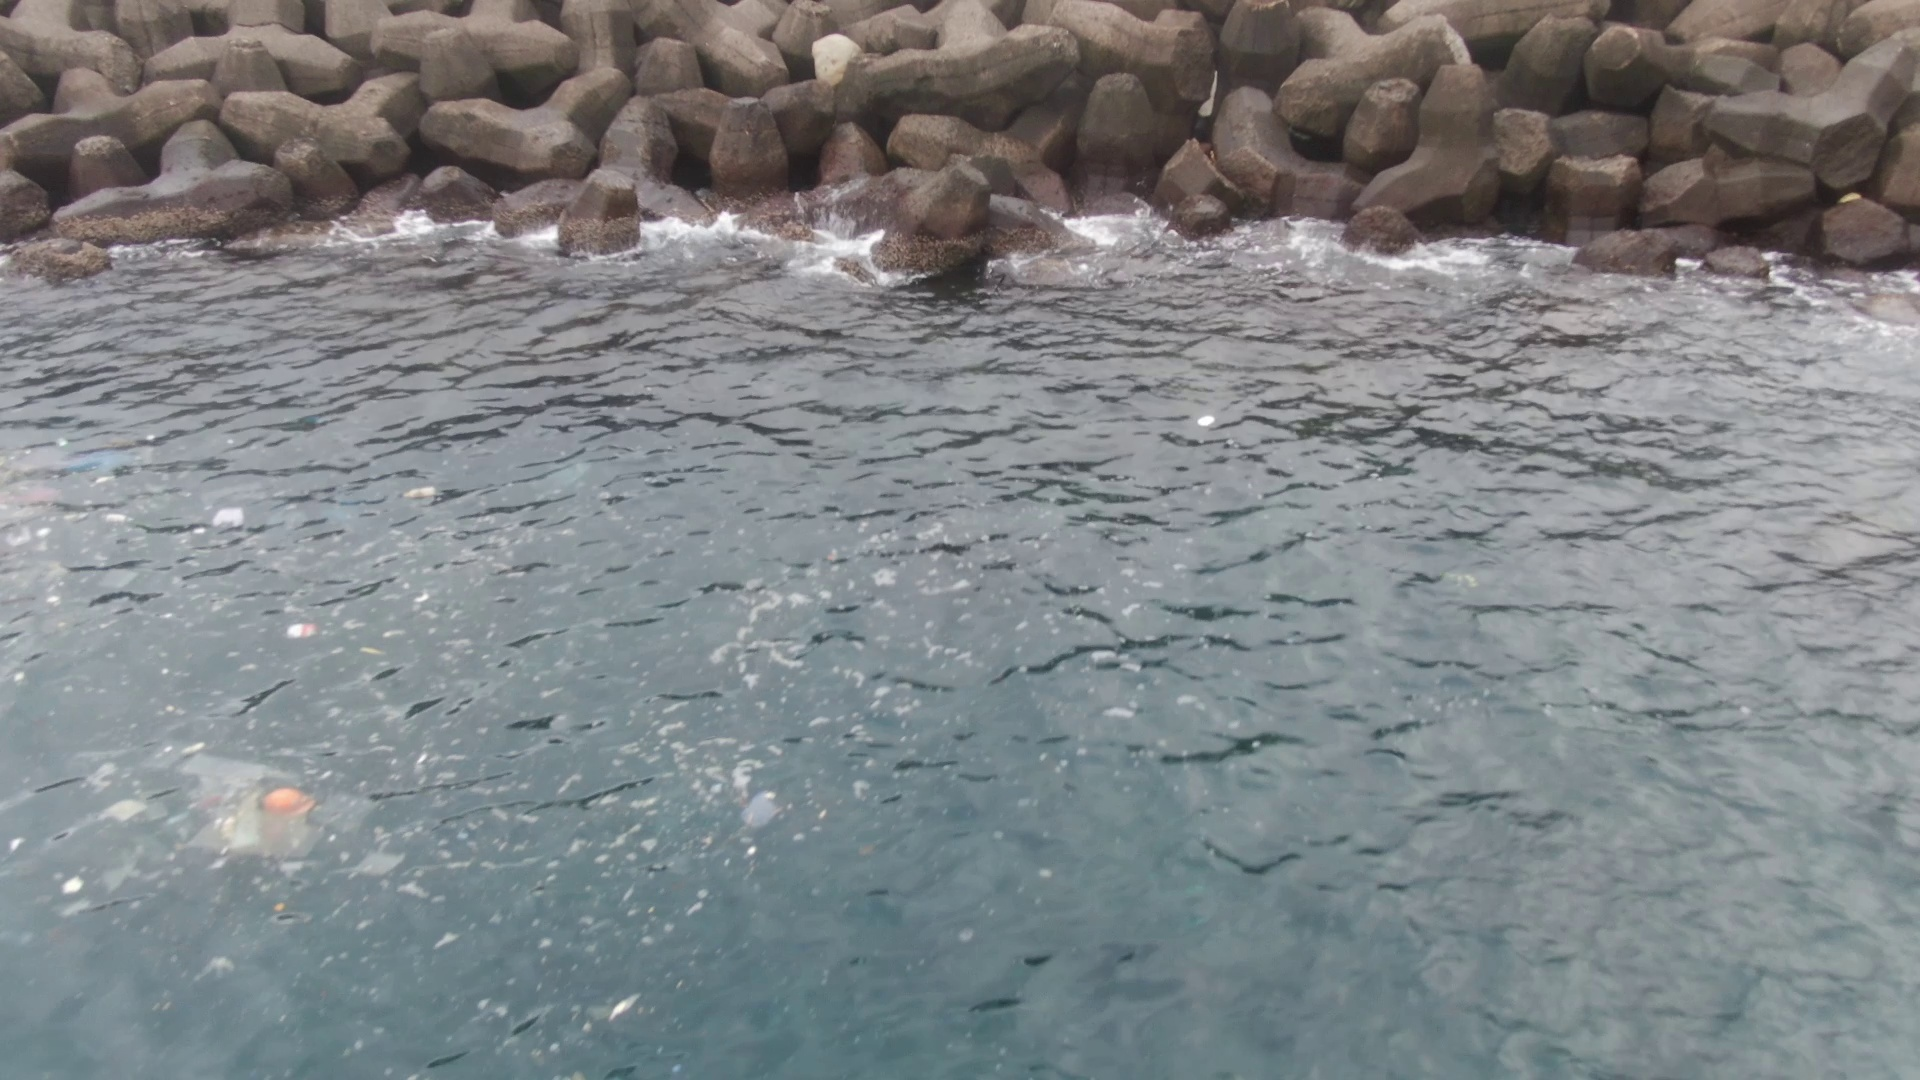garbage: (233, 771, 334, 843)
